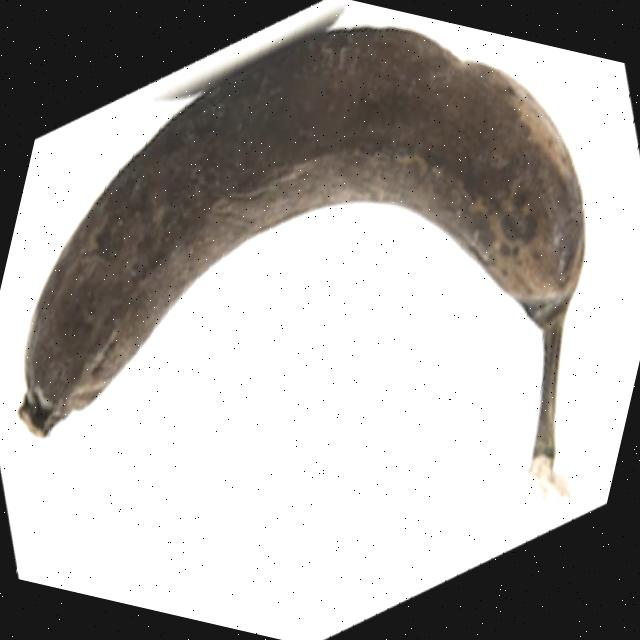Rotten: (4, 0, 640, 557)
